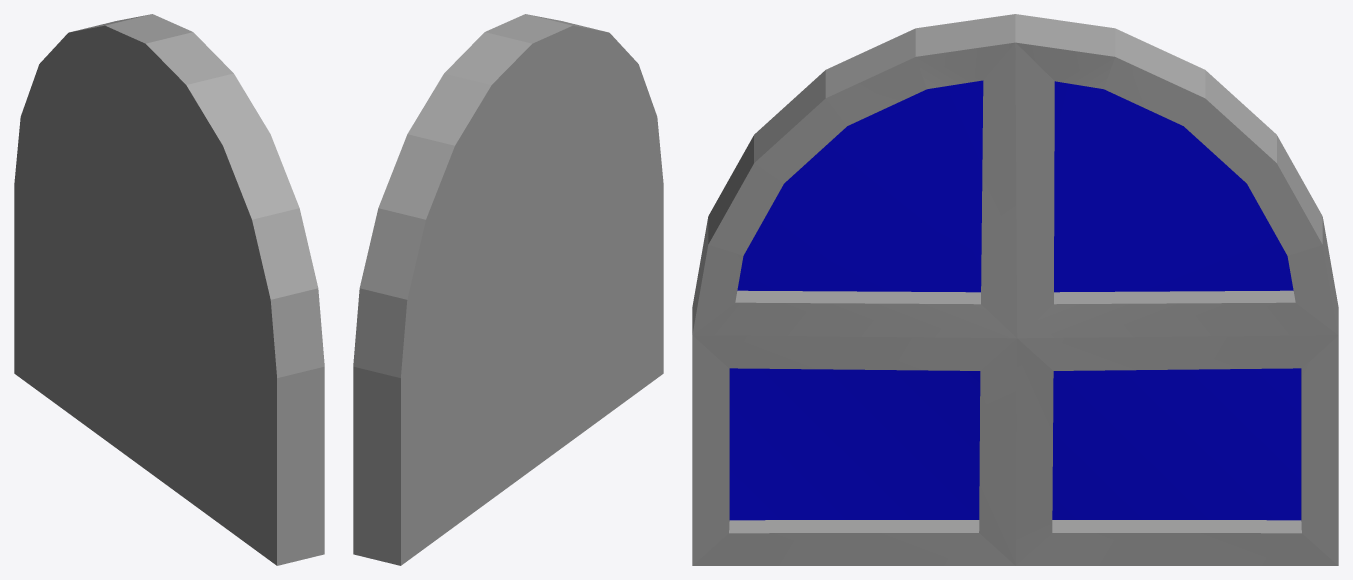
The model's file is B5Glass.fbx.
3 renders of one model, left to right at view 1: azimuth 30°, elevation 25°; view 2: azimuth 150°, elevation 25°; view 3: azimuth 270°, elevation 25°, orthographic. The views are drawn at different scales.
Parts seen in each view (by area): view 1: pCube72; view 2: pCube72; view 3: pCube72.
Part boxes in pixels (box(x1,y1,x2,y2)): pCube72: box(14, 14, 324, 565); pCube72: box(353, 14, 663, 565); pCube72: box(692, 14, 1338, 565).
Size of the model in its own units: 177 by 1370 by 1532.
